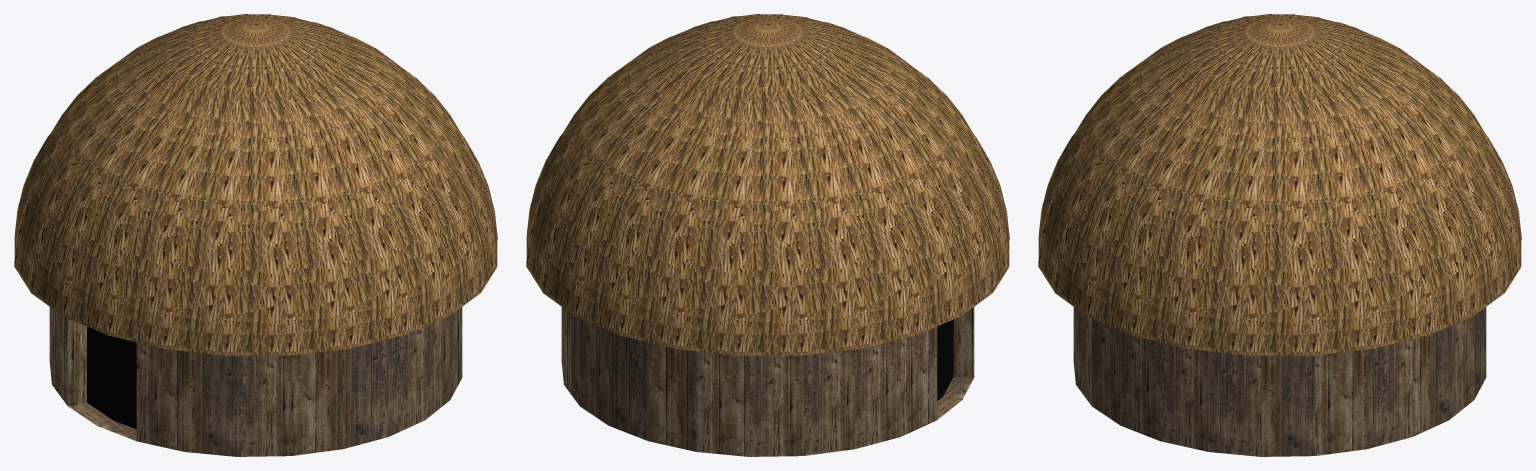
Rendered from rumah_honai_papua.glb.
3 renders of one model, left to right at view 1: azimuth 30°, elevation 25°; view 2: azimuth 150°, elevation 25°; view 3: azimuth 270°, elevation 25°, orthographic.
Visible parts, largest first — view 1: G-Object, C-papua atap.002, C-papua atap.011, C-papua atap.019, C-papua atap.006, C-papua atap, C-papua atap.023, C-papua atap.004, C-papua atap.007, C-papua atap.001, C-papua atap.022, C-papua atap.012 (+6 smaller); view 2: G-Object, C-papua atap.014, C-papua atap.016, C-papua atap.015, C-papua atap.018, C-papua atap.021, C-papua atap.012, C-papua atap.017, C-papua atap.001, C-papua atap.010, C-papua atap.004, C-papua atap.020 (+6 smaller); view 3: G-Object, C-papua atap.008, C-papua atap.003, C-papua atap.013, C-papua atap.009, C-papua atap.005, C-papua atap.020, C-papua atap.022, C-papua atap.010, C-papua atap.007, C-papua atap.017, C-papua atap.023 (+6 smaller).
Boxes of the visible parts, bbox=[...] form: G-Object: bbox=[49, 307, 462, 456]; C-papua atap.002: bbox=[223, 25, 286, 355]; C-papua atap.011: bbox=[255, 25, 347, 355]; C-papua atap.019: bbox=[161, 25, 254, 355]; C-papua atap.006: bbox=[255, 25, 402, 348]; C-papua atap: bbox=[106, 25, 254, 348]; C-papua atap.023: bbox=[256, 26, 448, 335]; C-papua atap.004: bbox=[62, 25, 253, 334]; C-papua atap.007: bbox=[256, 25, 480, 316]; C-papua atap.001: bbox=[30, 24, 254, 315]; C-papua atap.022: bbox=[257, 25, 496, 292]; C-papua atap.012: bbox=[14, 24, 253, 290]; G-Object: bbox=[561, 307, 974, 456]; C-papua atap.014: bbox=[735, 25, 798, 355]; C-papua atap.016: bbox=[767, 25, 859, 355]; C-papua atap.015: bbox=[673, 25, 766, 355]; C-papua atap.018: bbox=[767, 25, 914, 348]; C-papua atap.021: bbox=[618, 25, 766, 348]; C-papua atap.012: bbox=[768, 26, 960, 335]; C-papua atap.017: bbox=[574, 25, 765, 334]; C-papua atap.001: bbox=[768, 25, 992, 316]; C-papua atap.010: bbox=[542, 24, 766, 315]; C-papua atap.004: bbox=[769, 25, 1008, 292]; C-papua atap.020: bbox=[526, 24, 765, 290]; G-Object: bbox=[1073, 307, 1486, 456]; C-papua atap.008: bbox=[1247, 25, 1310, 355]; C-papua atap.003: bbox=[1279, 25, 1371, 355]; C-papua atap.013: bbox=[1185, 25, 1278, 355]; C-papua atap.009: bbox=[1279, 25, 1426, 348]; C-papua atap.005: bbox=[1130, 25, 1278, 348]; C-papua atap.020: bbox=[1280, 26, 1472, 335]; C-papua atap.022: bbox=[1086, 25, 1277, 334]; C-papua atap.010: bbox=[1280, 25, 1504, 316]; C-papua atap.007: bbox=[1054, 24, 1278, 315]; C-papua atap.017: bbox=[1281, 25, 1520, 292]; C-papua atap.023: bbox=[1038, 24, 1277, 290].
Size of the model in its own units: 7.02 by 5.53 by 7.02.
Materials: 3 (2 with a texture image).
